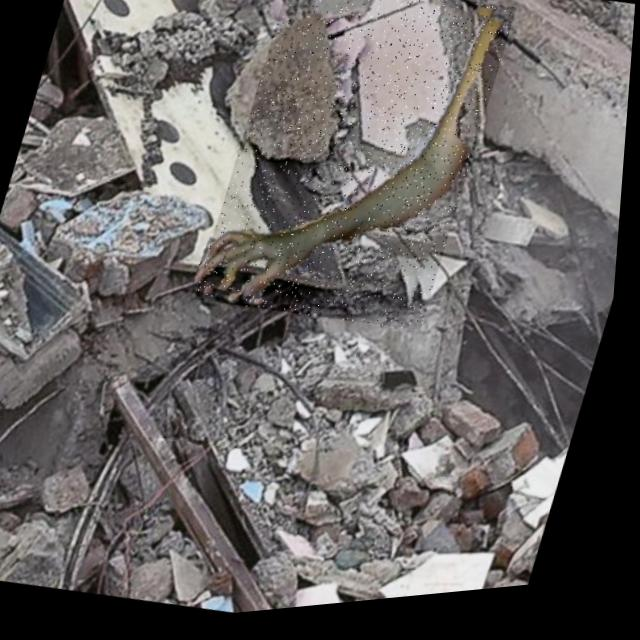Person in Rubble: (196, 0, 520, 357)
